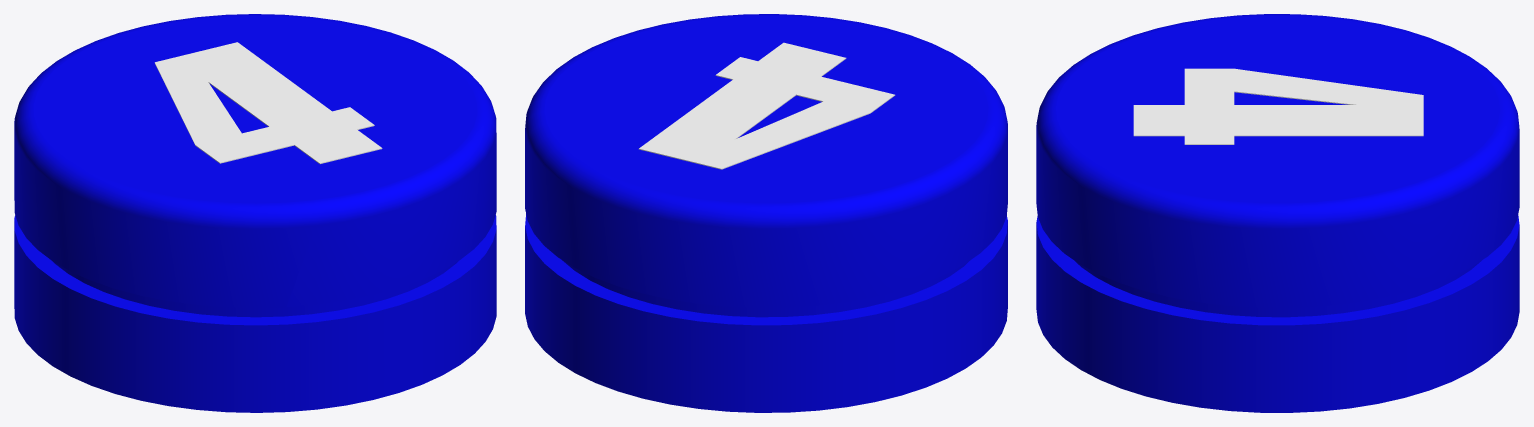
File: nubot_frame4_blue.dae
The picture shows the model from 3 angles, left to right: view 1: azimuth 30°, elevation 25°; view 2: azimuth 150°, elevation 25°; view 3: azimuth 270°, elevation 25°; orthographic projection.
Visible parts, largest first — view 1: SketchUp (×3), instance_0; view 2: SketchUp (×3), instance_0; view 3: SketchUp (×3), instance_0.
Part boxes in pixels (x1,y1,x2,y2): SketchUp (×3): [14, 14, 496, 412]; instance_0: [154, 42, 382, 163]; SketchUp (×3): [525, 14, 1007, 412]; instance_0: [638, 42, 895, 169]; SketchUp (×3): [1036, 14, 1519, 412]; instance_0: [1133, 68, 1423, 144].
Size of the model in its own units: 19.66 by 19.68 by 9.09.
